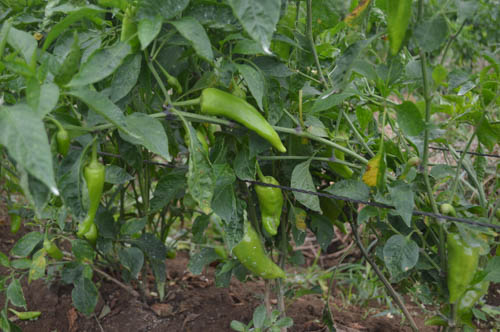ChiliPepper: (198, 88, 285, 149), (231, 233, 288, 284), (442, 232, 477, 309), (252, 179, 285, 238), (83, 163, 106, 232), (330, 127, 354, 183), (385, 8, 412, 57)
